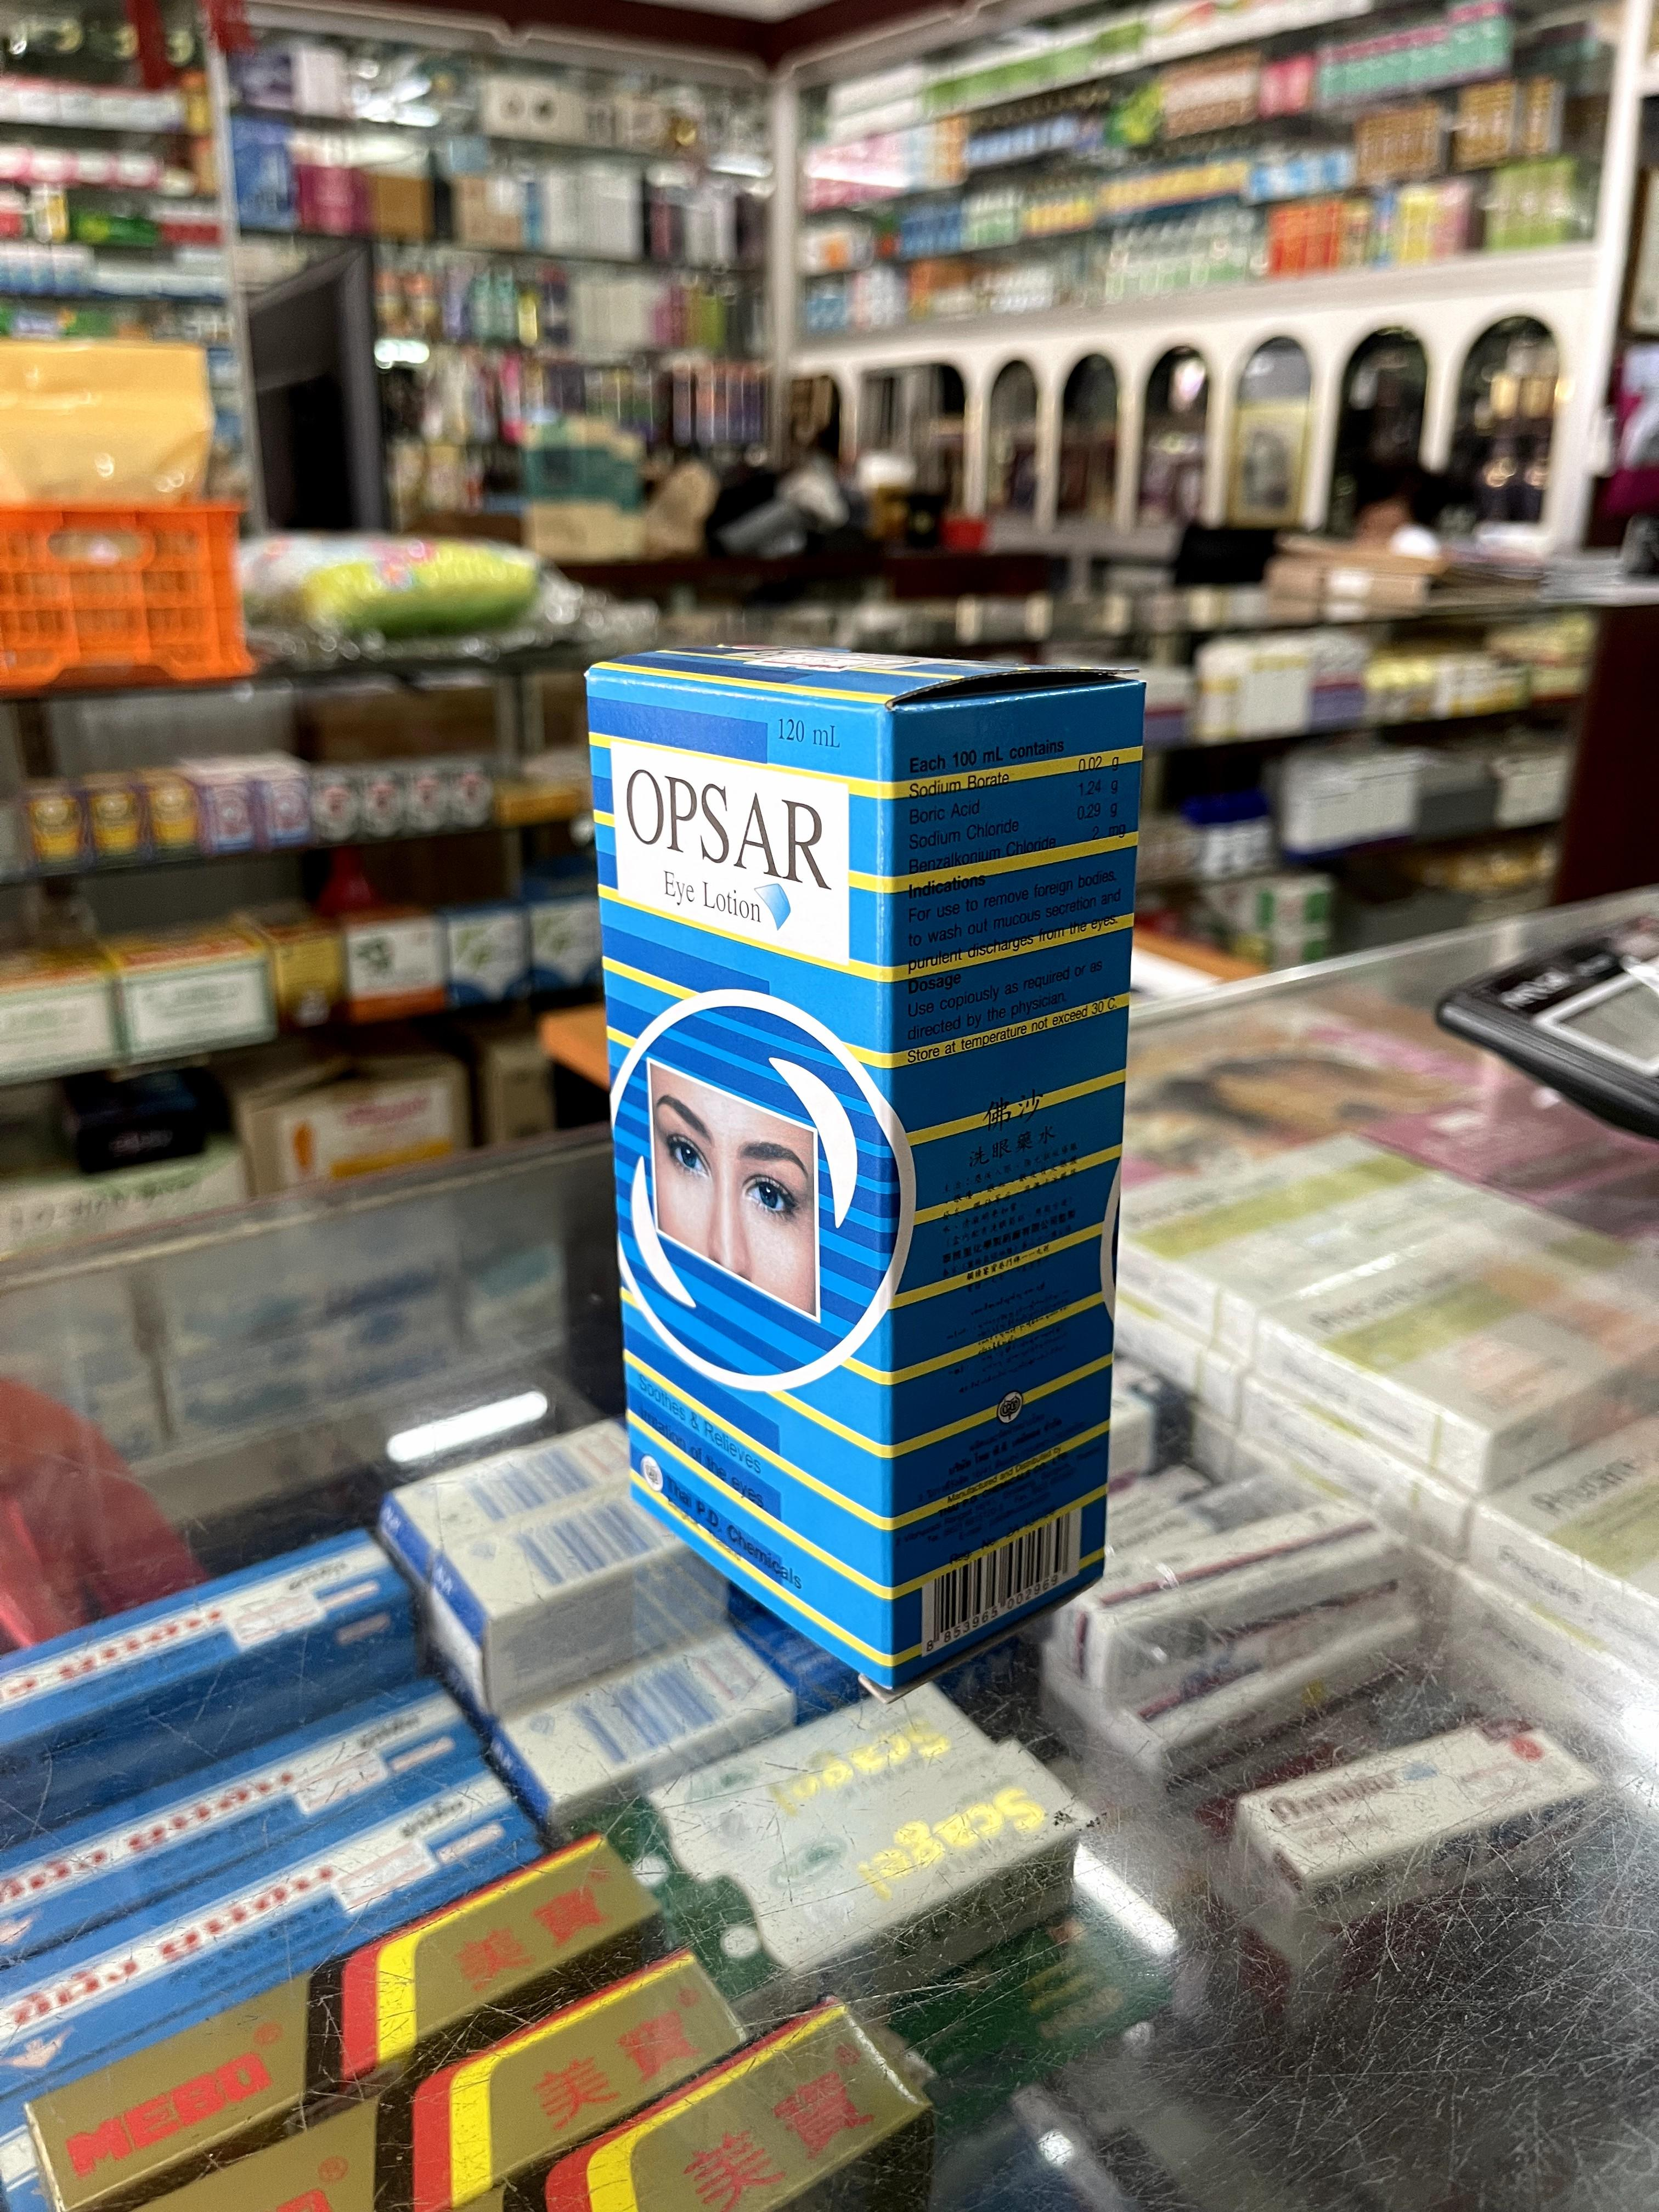Opsar: (587, 643, 1150, 1700)
